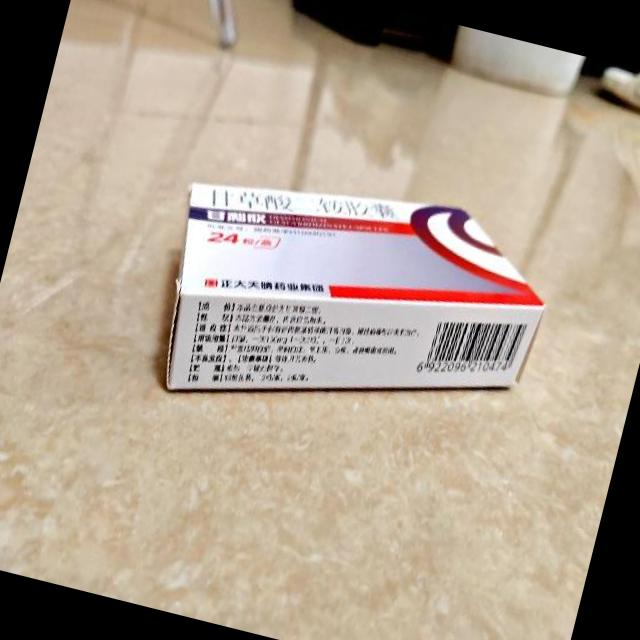box: (142, 142, 564, 476)
